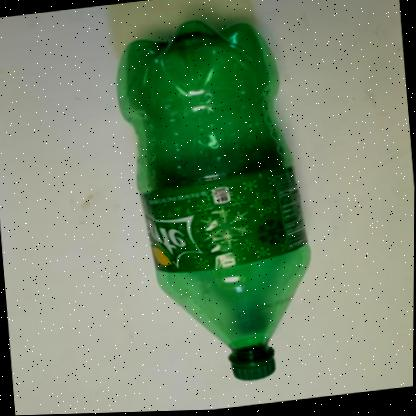Plastic: (117, 22, 311, 383)
